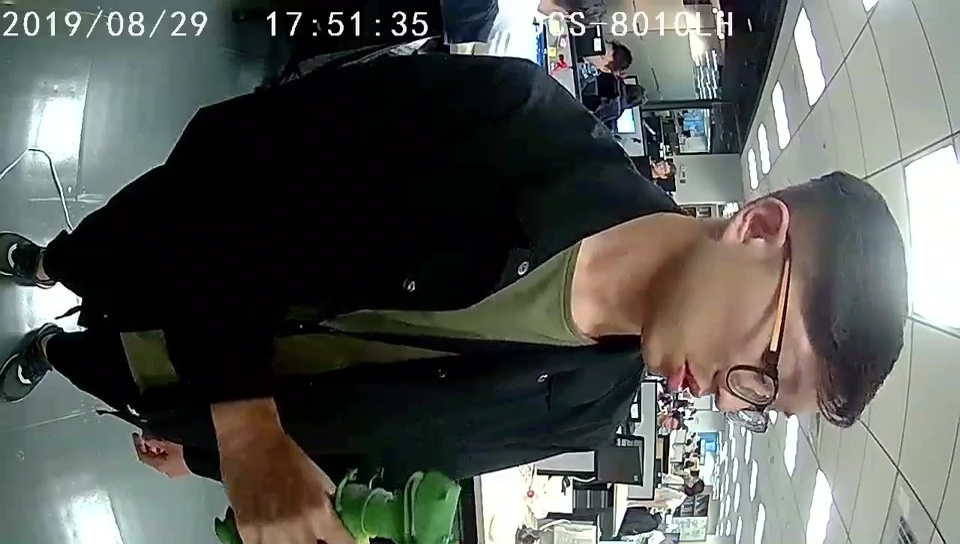rex: (211, 469, 459, 544)
